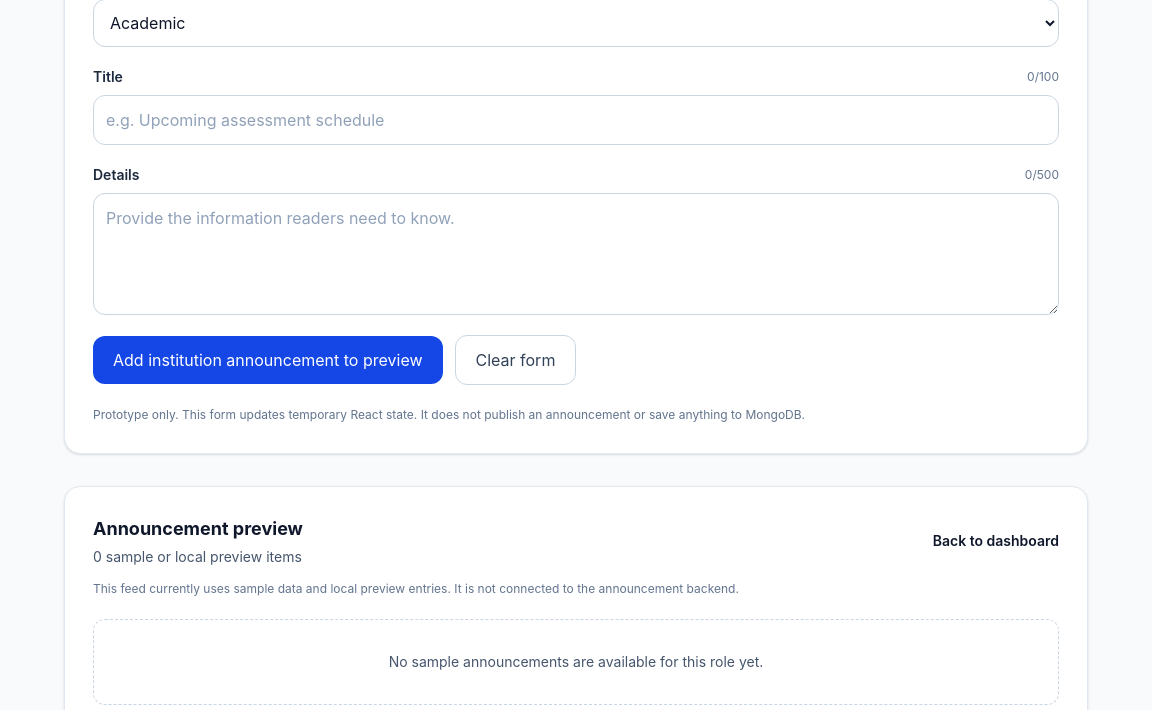
Scenario: AnnouncementFormPage › validates required announcement fields
This screenshot has width=1152, height=710.
(page scrolled)
Click the button "Add institution announcement to preview" at (268, 360), box [93,336,442,384]
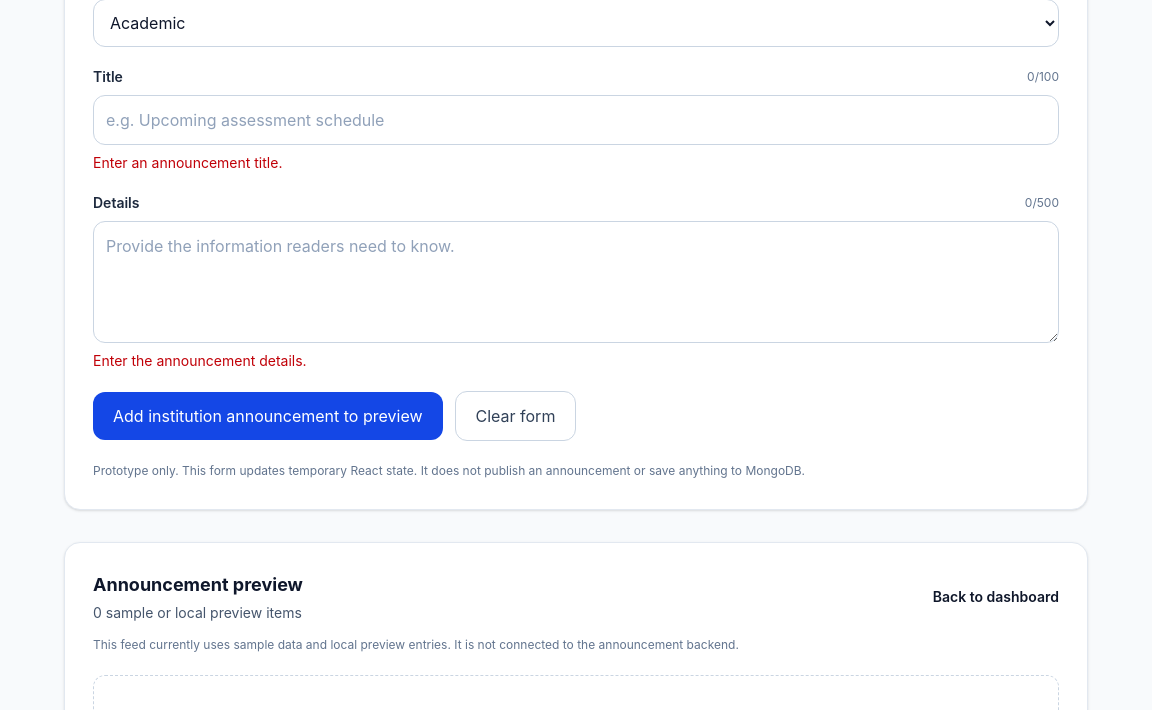
Result: the text "Enter an announcement title." is shown at [93,154,282,171]
Result: the text "Enter the announcement details." is shown at [93,352,307,369]
